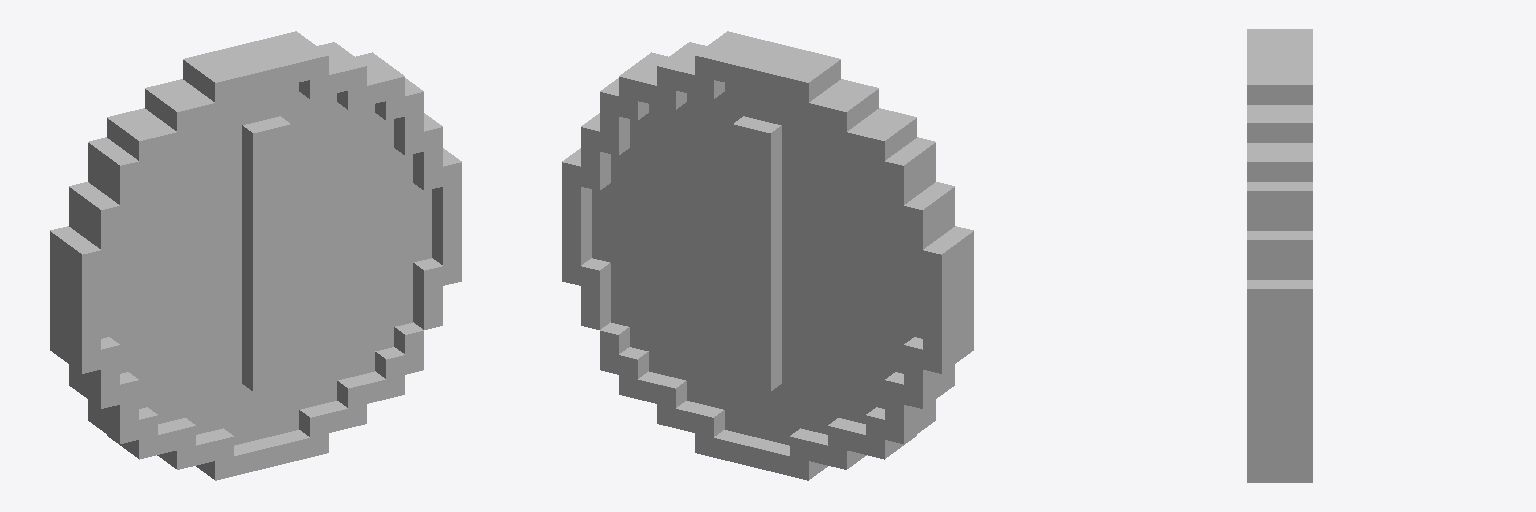
The model's file is Coin.obj.
3 views of the same model, side by side, from view 1: azimuth 30°, elevation 25°; view 2: azimuth 150°, elevation 25°; view 3: azimuth 270°, elevation 25° (orthographic).
Visible parts, largest first — view 1: object 1; view 2: object 1; view 3: object 1.
Boxes of the visible parts, x1,y1,x2,y2 form: object 1: [50, 31, 461, 480]; object 1: [562, 31, 973, 480]; object 1: [1247, 29, 1312, 482].
Size of the model in its own units: 2 by 2 by 0.3.